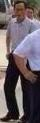boots: (0, 112, 19, 122), (18, 113, 29, 123)
ppe-suit: (0, 0, 1, 2)
